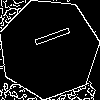I: (24, 23, 72, 53)
